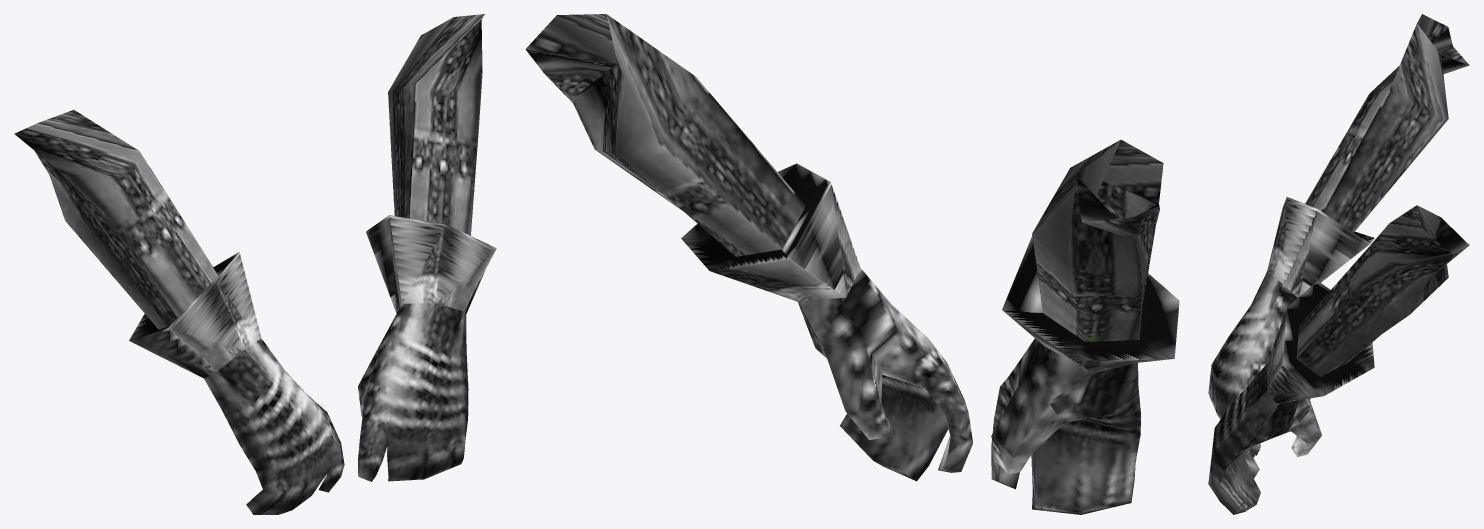
Rendered from Plate Armor Gloves.fbx.
3 views of the same model, side by side, from view 1: azimuth 30°, elevation 25°; view 2: azimuth 150°, elevation 25°; view 3: azimuth 270°, elevation 25° (orthographic). The views are drawn at different scales.
Visible parts, largest first — view 1: Plate Gloves; view 2: Plate Gloves; view 3: Plate Gloves.
Part boxes in pixels (x1,y1,x2,y2): Plate Gloves: [14, 14, 496, 514]; Plate Gloves: [525, 14, 1179, 514]; Plate Gloves: [1208, 14, 1469, 514].
Size of the model in its own units: 0.4994 by 0.3774 by 0.2464.
